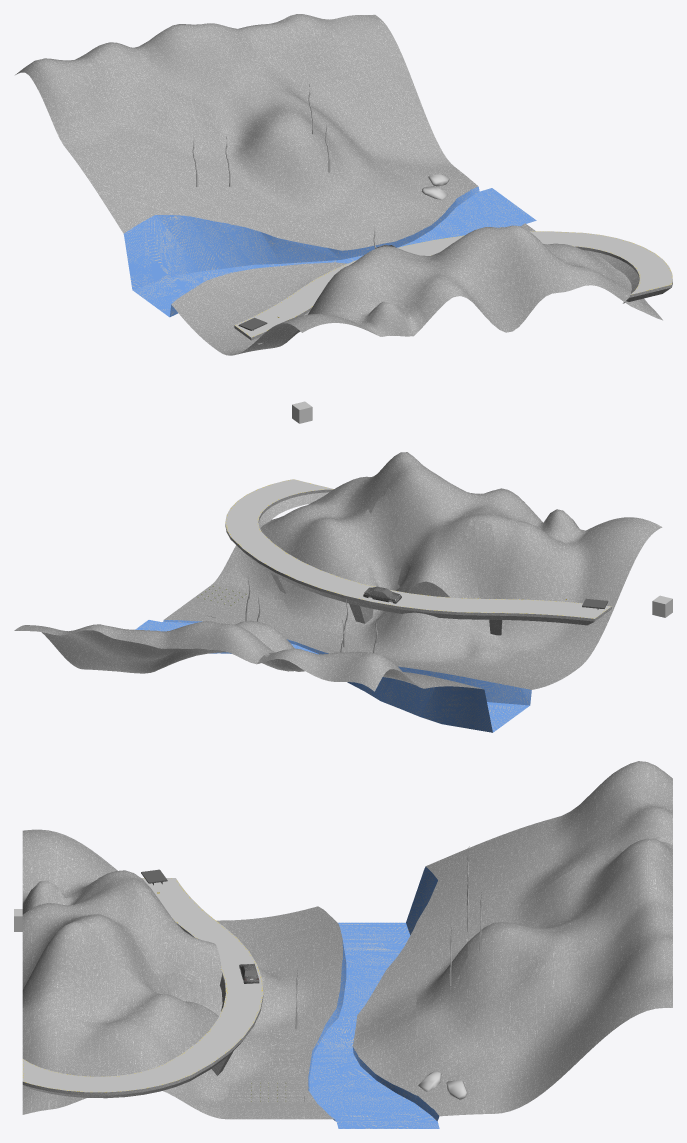
The picture shows the model from 3 angles, top to bottom: view 1: azimuth 30°, elevation 25°; view 2: azimuth 150°, elevation 25°; view 3: azimuth 270°, elevation 25°; orthographic projection. The views are drawn at different scales.
Visible parts, largest first — view 1: SketchUp_044, SketchUp, SketchUp_046, SketchUp_042, SketchUp_040, SketchUp_061, SketchUp_045, SketchUp_019, SketchUp_047, SketchUp_059; view 2: SketchUp, SketchUp_044, SketchUp_061, SketchUp_019, SketchUp_042, SketchUp_046, SketchUp_010, SketchUp_041, SketchUp_015, SketchUp_059, SketchUp_040, SketchUp_012 (+2 smaller); view 3: SketchUp_044, SketchUp, SketchUp_046, SketchUp_040, SketchUp_061, SketchUp_019, SketchUp_045, SketchUp_042, SketchUp_059, SketchUp_012, SketchUp_010, SketchUp_047 (+1 smaller).
Boxes of the visible parts, x1,y1,x2,y2 form: SketchUp_044: (113,14,478,249); SketchUp: (171,225,672,355); SketchUp_046: (15,42,219,220); SketchUp_042: (123,186,479,289); SketchUp_040: (132,188,536,316); SketchUp_061: (236,232,671,336); SketchUp_045: (305,200,433,250); SketchUp_019: (176,223,535,299); SketchUp_047: (289,145,340,199); SketchUp_059: (234,231,672,337); SketchUp: (225,452,662,689); SketchUp_044: (14,620,483,689); SketchUp_061: (226,480,609,617); SketchUp_019: (164,585,520,687); SketchUp_042: (210,652,492,732); SketchUp_046: (257,648,472,691); SketchUp_010: (359,487,401,590); SketchUp_041: (163,620,531,705); SketchUp_015: (473,519,502,598); SketchUp_059: (225,479,611,618); SketchUp_040: (135,620,529,732); SketchUp_012: (386,515,410,590); SketchUp_044: (360,834,672,1116); SketchUp: (22,829,321,1114); SketchUp_046: (443,761,672,923); SketchUp_040: (309,922,439,1128); SketchUp_061: (24,878,261,1091); SketchUp_019: (228,909,342,1119); SketchUp_045: (355,992,416,1075); SketchUp_042: (352,866,439,1121); SketchUp_059: (22,878,263,1092); SketchUp_012: (133,955,193,1001); SketchUp_010: (108,945,202,1004); SketchUp_047: (425,942,467,1006).
Size of the model in its own units: 60.27 by 77 by 22.5.
